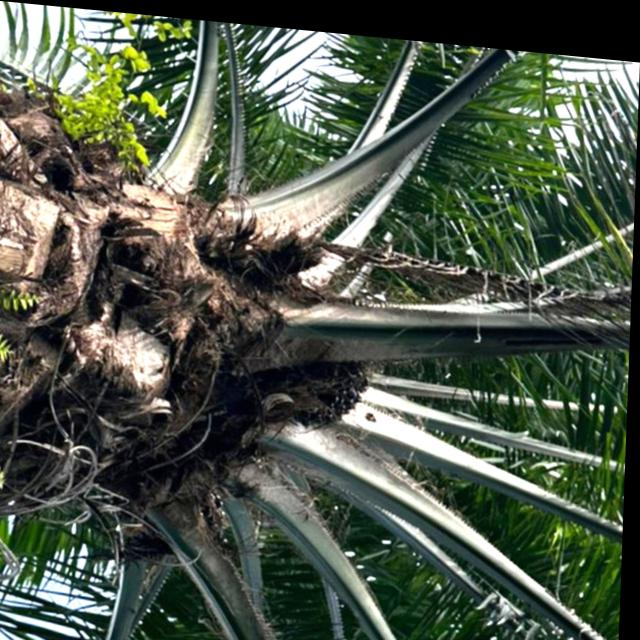almost: (282, 332, 382, 436)
